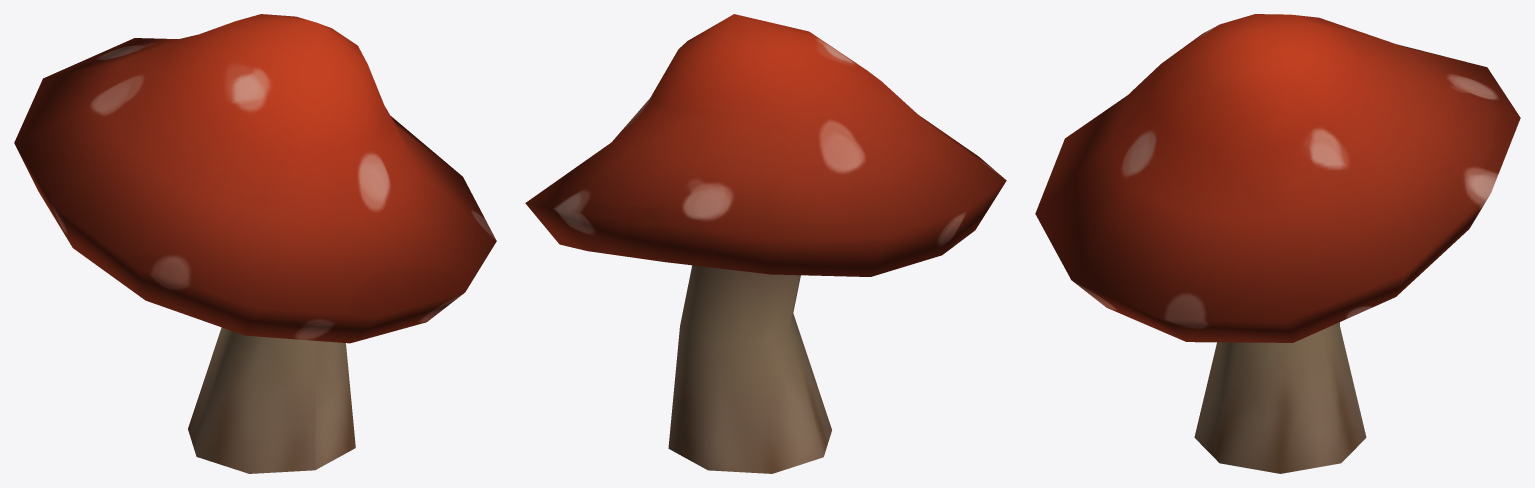
Rendered from Mushroom_1.FBX.
3 renders of one model, left to right at view 1: azimuth 30°, elevation 25°; view 2: azimuth 150°, elevation 25°; view 3: azimuth 270°, elevation 25°, orthographic. The views are drawn at different scales.
Visible parts, largest first — view 1: Mushroom_1; view 2: Mushroom_1; view 3: Mushroom_1.
Boxes of the visible parts, <box> form: Mushroom_1: <box>14,14,496,473</box>; Mushroom_1: <box>525,14,1006,473</box>; Mushroom_1: <box>1035,14,1520,473</box>.
Size of what is drawn, in the model's own units: 100 by 103 by 96.57.
